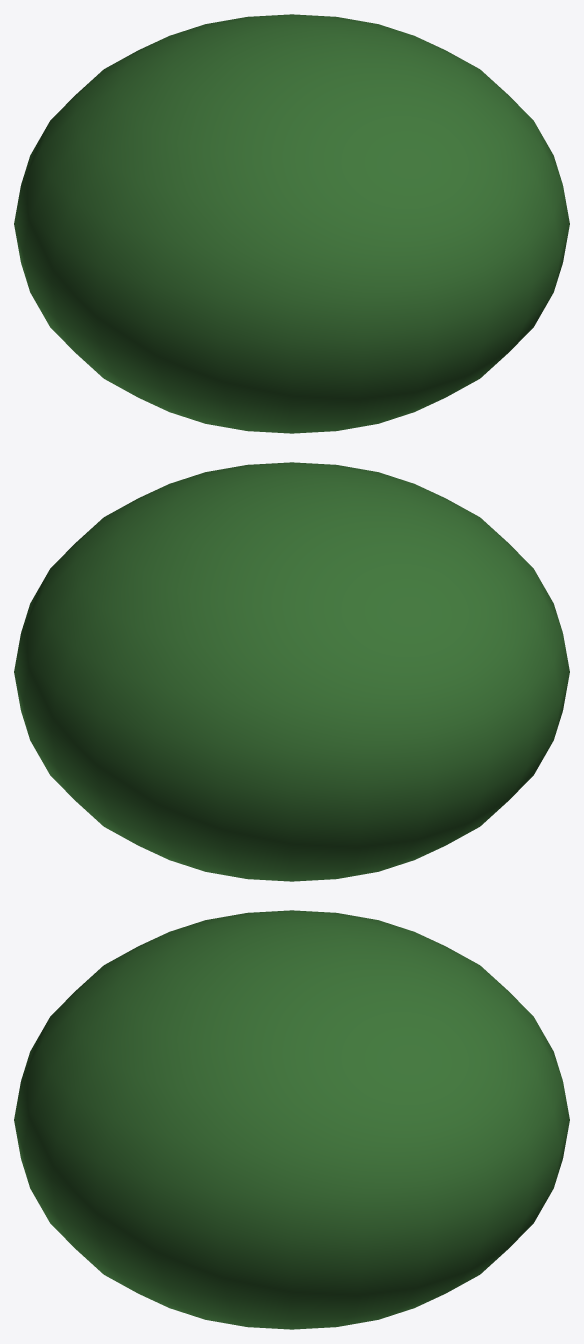
File: SM_Bush.fbx
The picture shows the model from 3 angles, top to bottom: view 1: azimuth 30°, elevation 25°; view 2: azimuth 150°, elevation 25°; view 3: azimuth 270°, elevation 25°; orthographic projection.
Visible parts, largest first — view 1: Body; view 2: Body; view 3: Body.
Part boxes in pixels (bbox=[...]): Body: bbox=[14, 14, 569, 433]; Body: bbox=[14, 462, 569, 881]; Body: bbox=[14, 910, 569, 1329].
Size of the model in its own units: 1.3 by 0.9 by 1.3.
